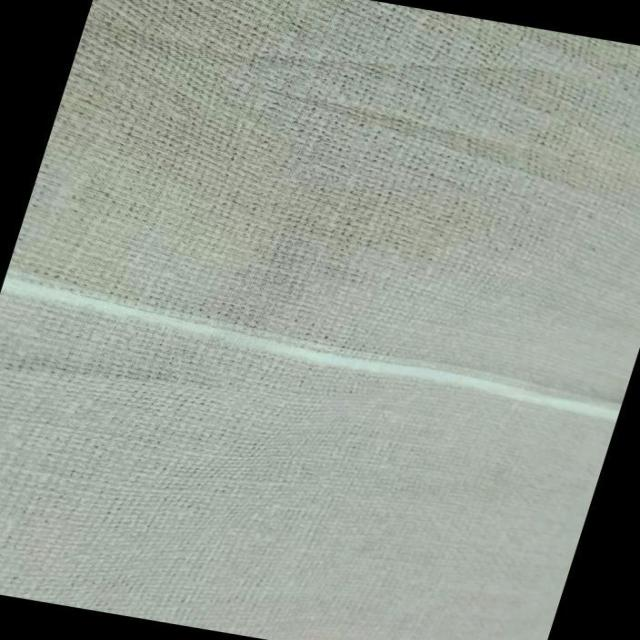selvet: (0, 267, 632, 430)
